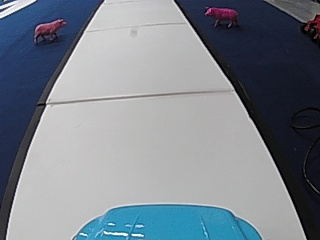pig: (202, 4, 240, 29), (32, 16, 65, 43)
tractor: (301, 13, 319, 42)
